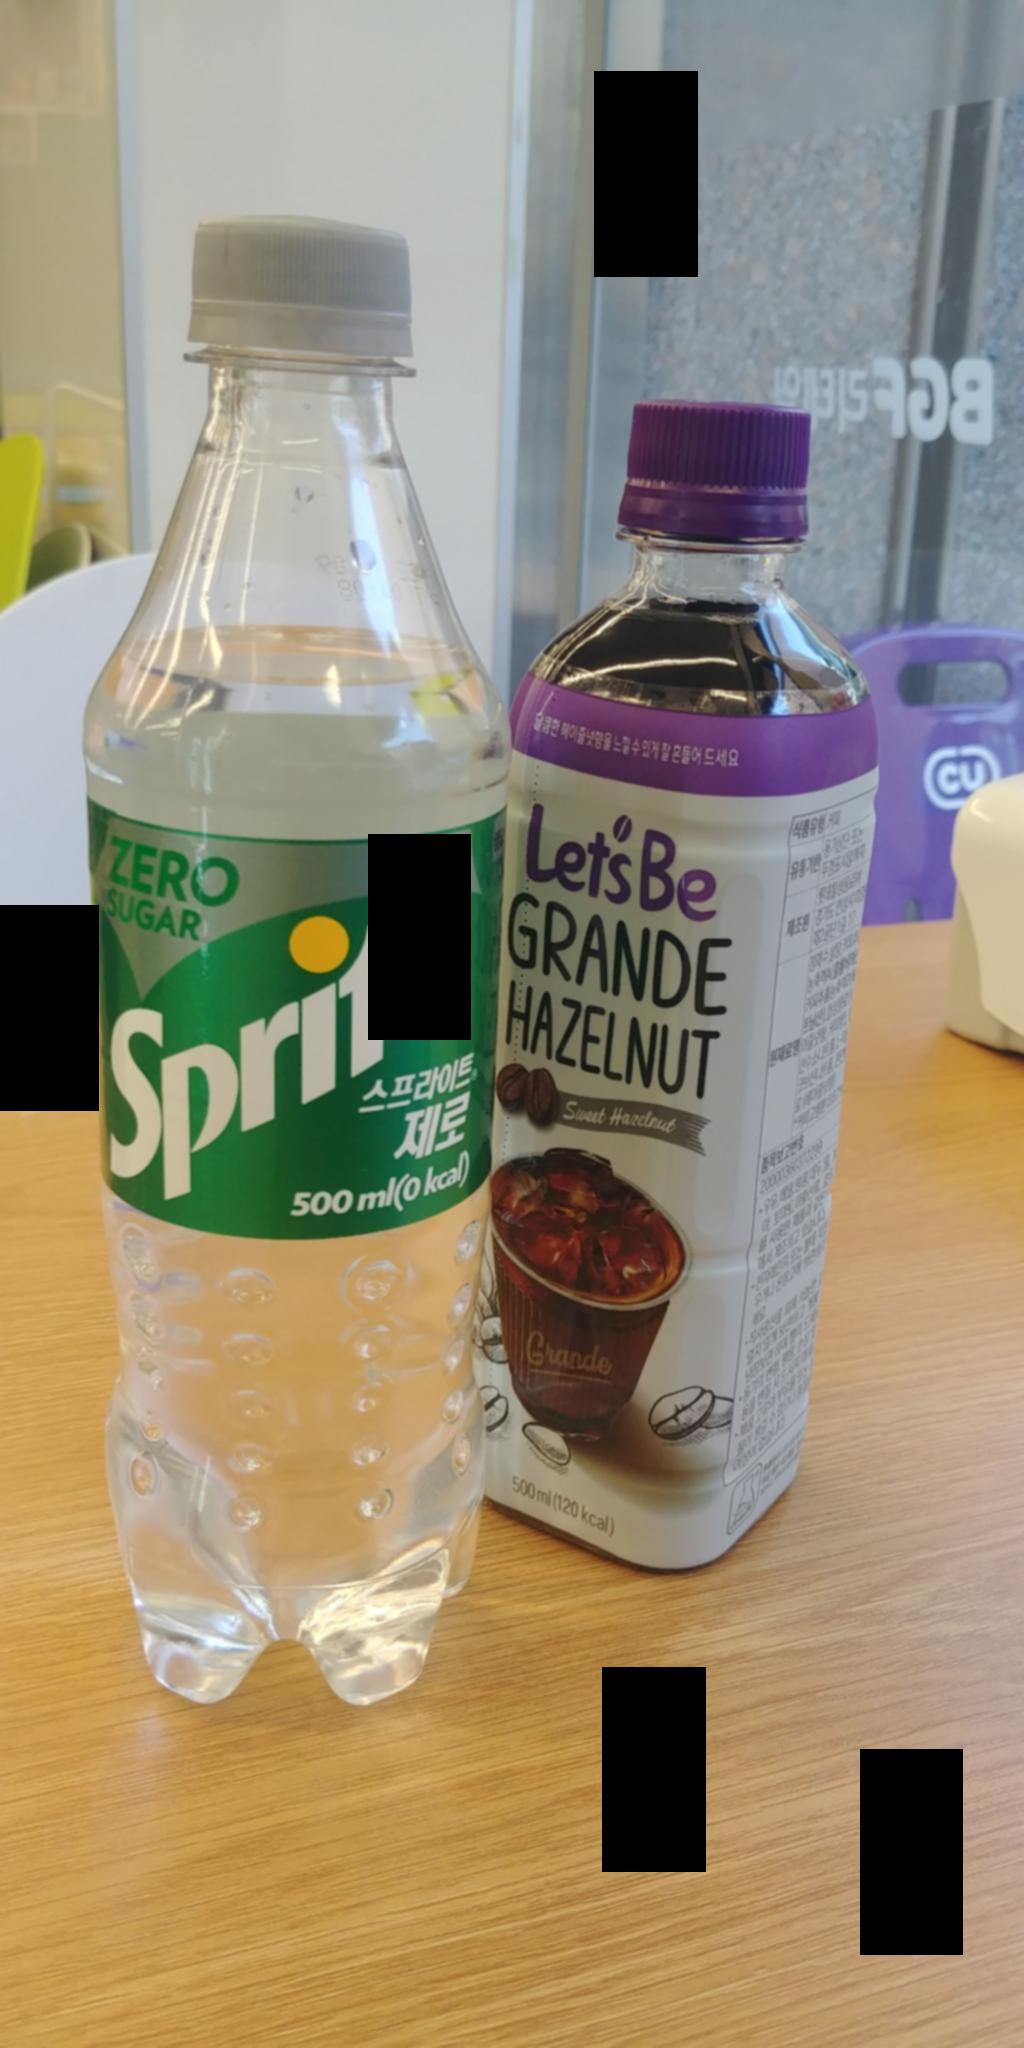letsbe_grande_hazelnut: (479, 379, 884, 1543)
sprite_zero: (60, 212, 508, 1727)
